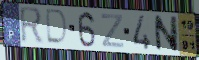4: (132, 14, 152, 52)
6: (76, 10, 97, 48)
D: (45, 8, 69, 47)
N: (152, 14, 179, 53)
R: (18, 5, 45, 46)
Z: (100, 13, 125, 50)
